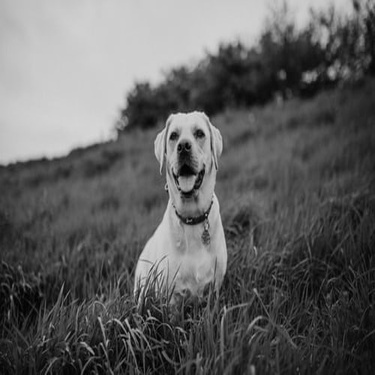dog: (130, 104, 233, 312)
